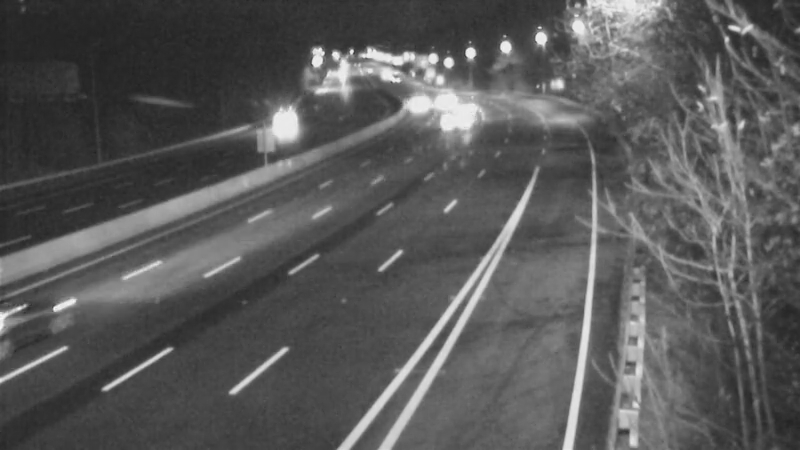vehicle: (1, 266, 97, 376), (365, 50, 415, 100), (421, 77, 471, 127), (383, 83, 433, 133), (443, 79, 493, 129), (429, 97, 479, 147), (259, 100, 309, 150)
